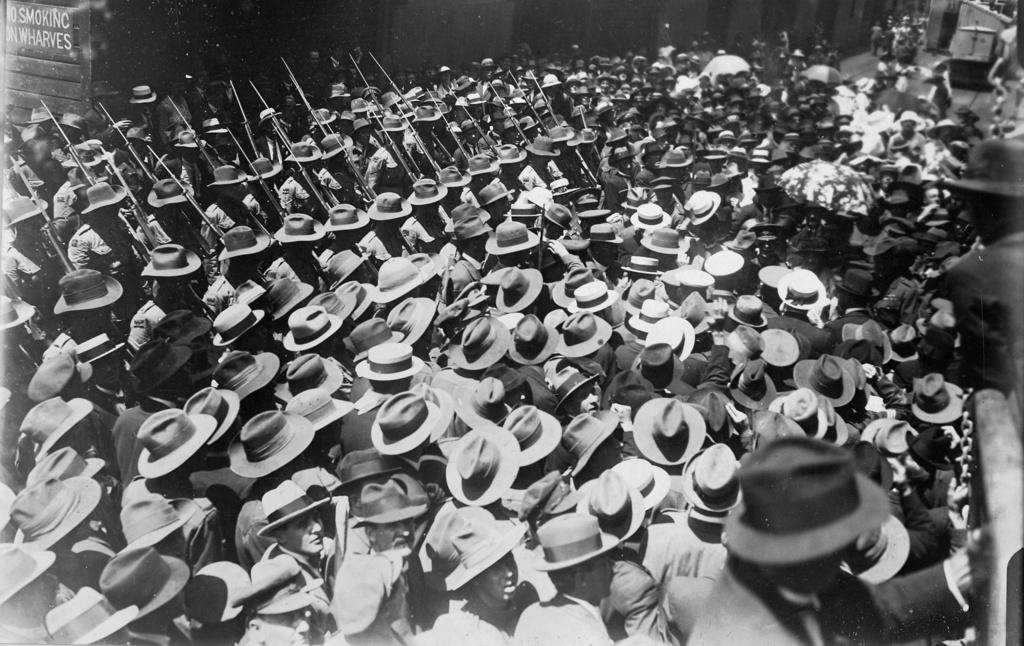Hat: (0, 12, 1023, 644)
